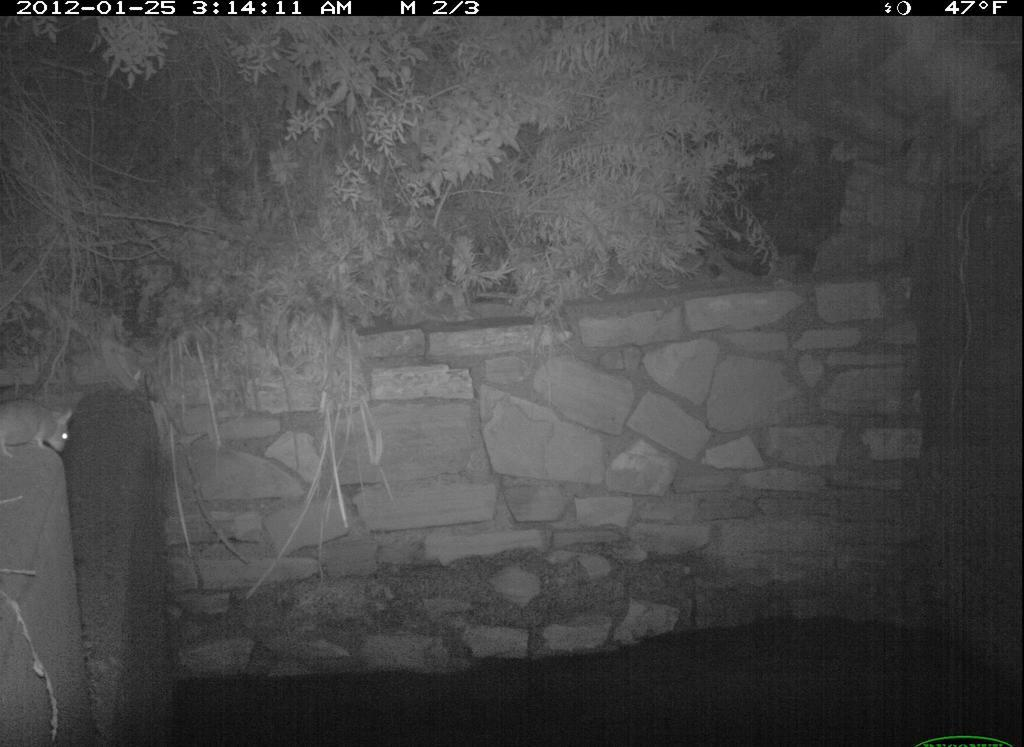rodent: (1, 393, 75, 464)
